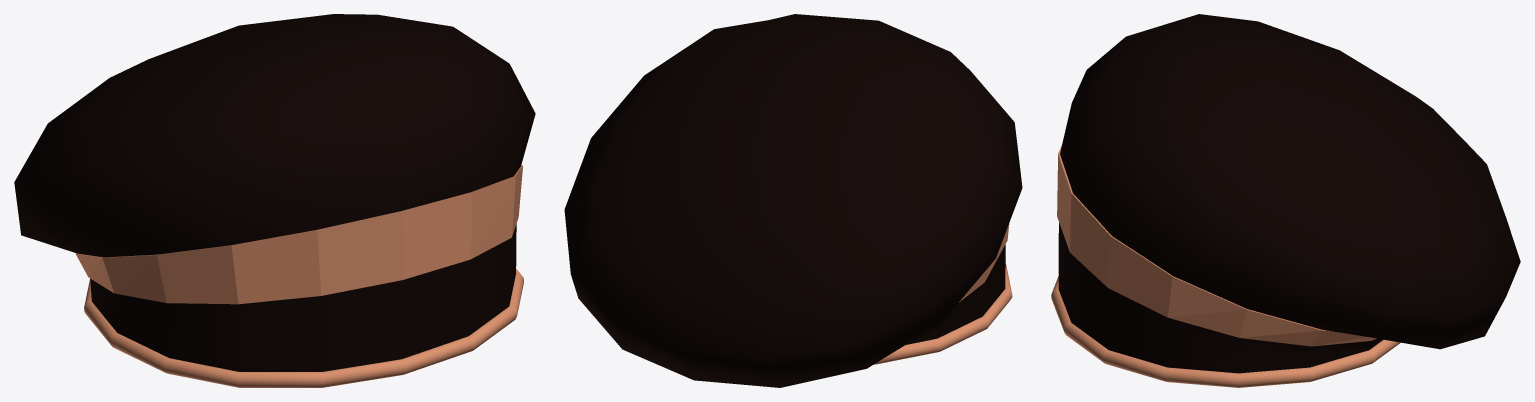
Rendered from Hat_4.FBX.
3 views of the same model, side by side, from view 1: azimuth 30°, elevation 25°; view 2: azimuth 150°, elevation 25°; view 3: azimuth 270°, elevation 25° (orthographic). The views are drawn at different scales.
Visible parts, largest first — view 1: Cube; view 2: Cube; view 3: Cube.
Part boxes in pixels (<box>): Cube: <box>14,14,535,387</box>; Cube: <box>564,14,1022,387</box>; Cube: <box>1051,14,1520,387</box>.
Size of the model in its own units: 32.97 by 19.11 by 32.13.
